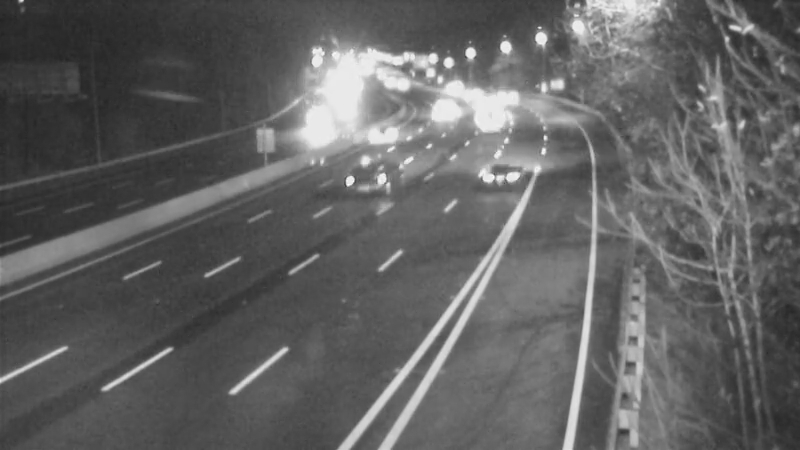vehicle: (469, 131, 549, 211), (334, 134, 414, 214), (425, 66, 475, 116), (478, 75, 528, 125), (450, 67, 500, 117), (421, 78, 471, 128), (458, 80, 508, 130), (420, 93, 470, 143), (466, 97, 516, 147), (355, 111, 405, 161), (291, 95, 341, 145)
